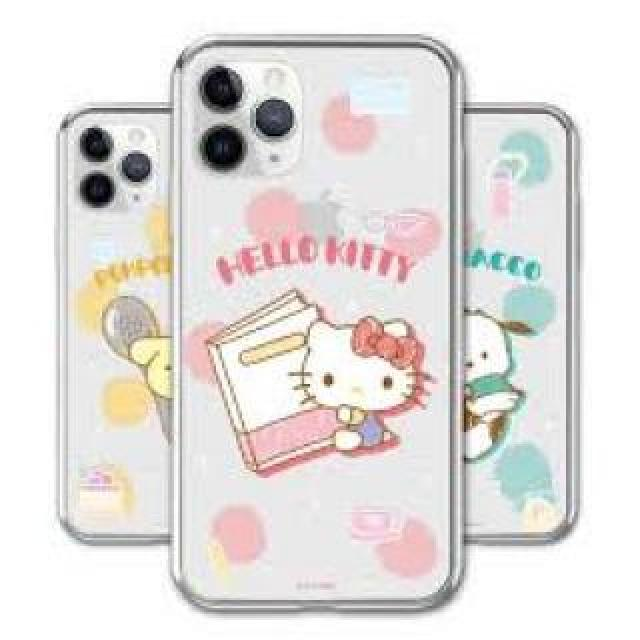smart phone: (180, 32, 460, 618), (33, 98, 190, 592), (436, 92, 592, 533)
